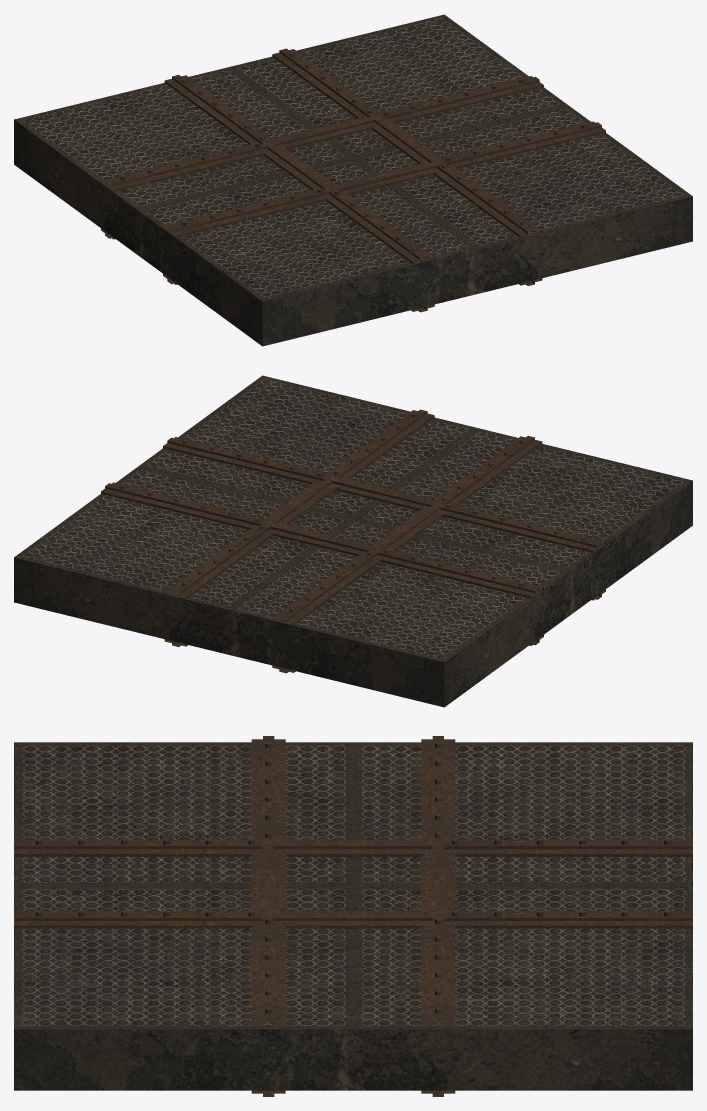
Rendered from floor_ceiling_rtx_1.obj.
3 views of the same model, one above another, from view 1: azimuth 30°, elevation 25°; view 2: azimuth 150°, elevation 25°; view 3: azimuth 270°, elevation 25° (orthographic). The views are drawn at different scales.
Visible parts, largest first — view 1: floor_ceiling_rtx_1; view 2: floor_ceiling_rtx_1; view 3: floor_ceiling_rtx_1.
Boxes of the visible parts, bbox=[...] form: floor_ceiling_rtx_1: bbox=[14, 14, 692, 346]; floor_ceiling_rtx_1: bbox=[14, 375, 692, 707]; floor_ceiling_rtx_1: bbox=[14, 736, 692, 1096].
Bounding box in the file's own units: 4 × 0.5303 × 4.
